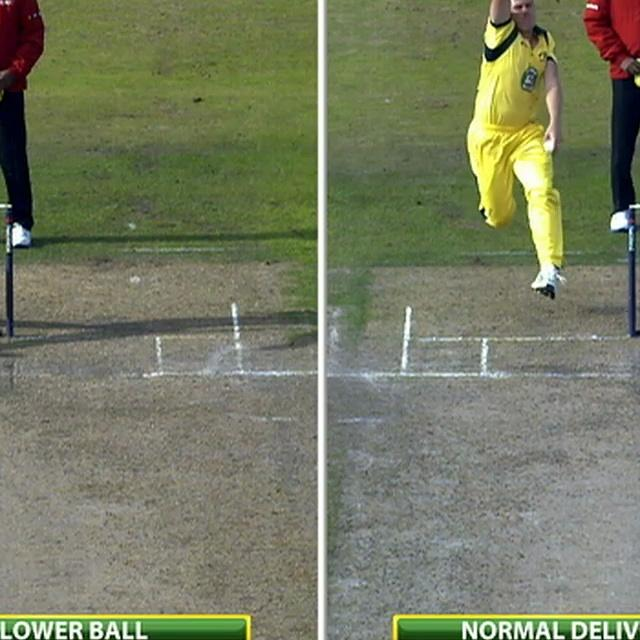umpire: (572, 0, 640, 235)
